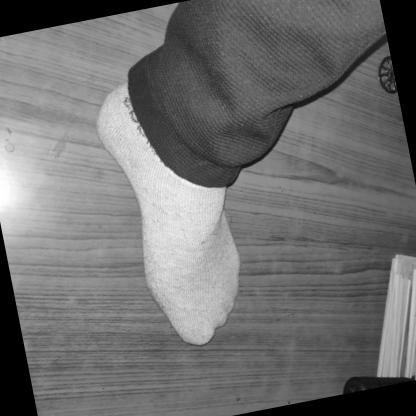ankle: (167, 137, 178, 150)
heel: (100, 127, 108, 135)
pinky: (228, 254, 237, 263)
right_foot: (89, 68, 255, 357)
toe: (197, 326, 206, 335)
